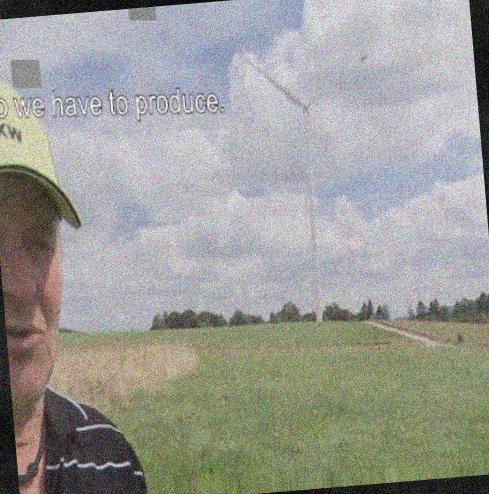wind turbine: (245, 54, 370, 328)
